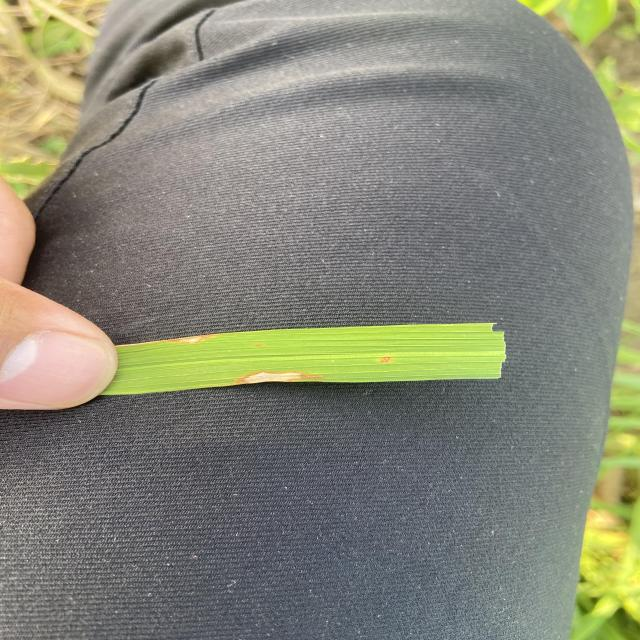Dao on: (238, 372, 305, 384), (174, 334, 214, 343), (380, 356, 391, 363)
